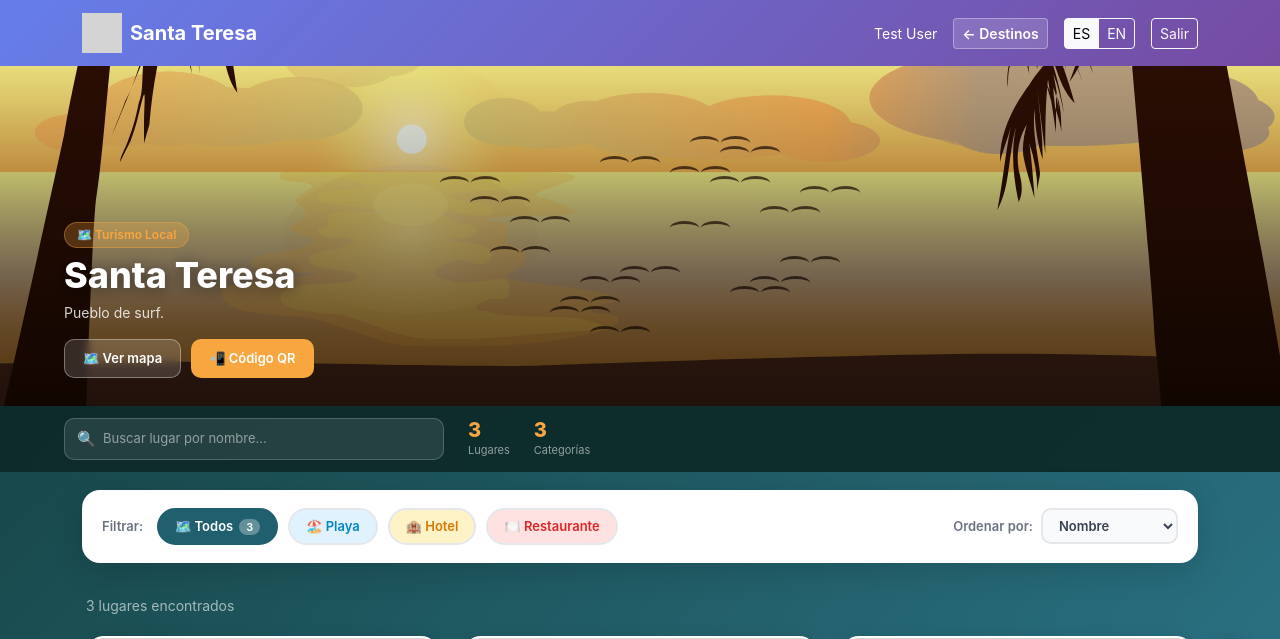
Scenario: PlacesPage › search › shows the empty state when no places match search
The image size is (1280, 639).
Type "zzzzzznoresult" into the field with placeholder "Buscar lugar por nombre...".
click(254, 439); type("zzzzzznoresult")  # box [64,418,444,460]
(page scrolled)
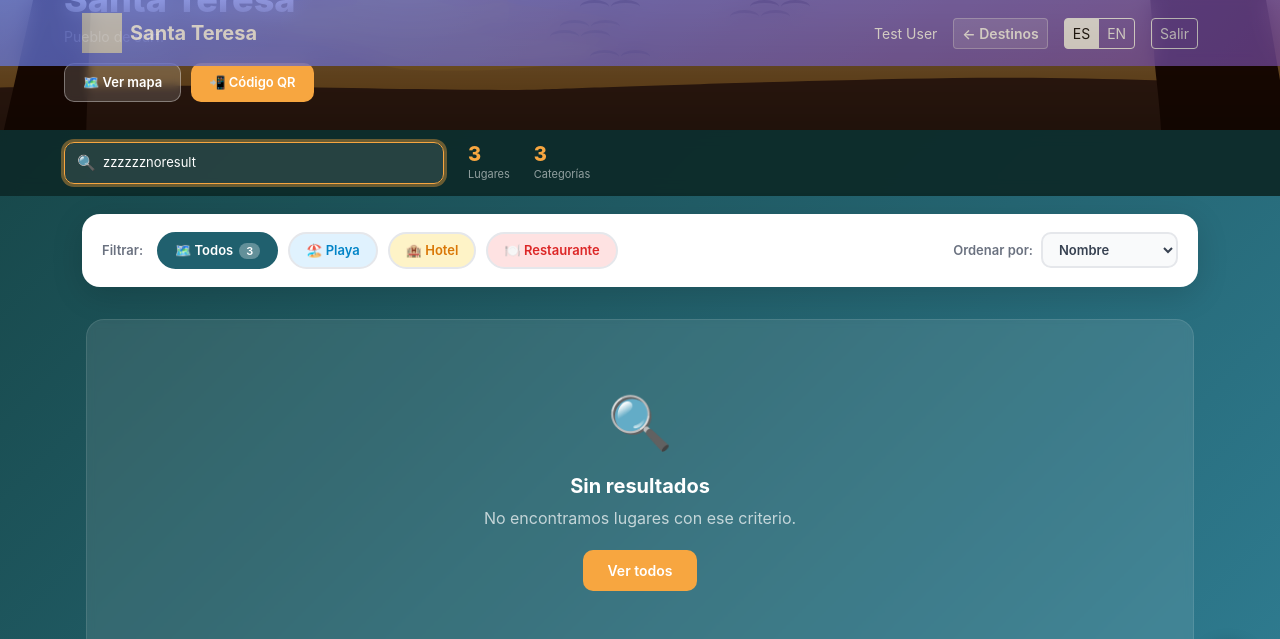
Result: the heading "Sin resultados" is shown at [570,474,710,498]
Result: the text "No encontramos lugares con ese criterio." is shown at [484,508,796,528]
Result: the button "Ver todos" is shown at [584,550,696,591]
